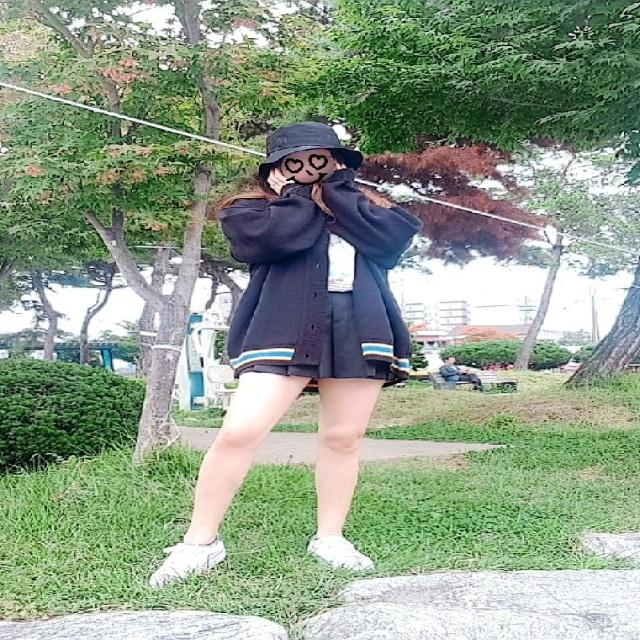cardigan: (219, 170, 422, 365)
skirt: (238, 290, 406, 386)
